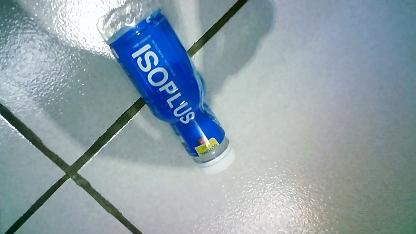Plastic Bottle: (92, 1, 238, 172)
